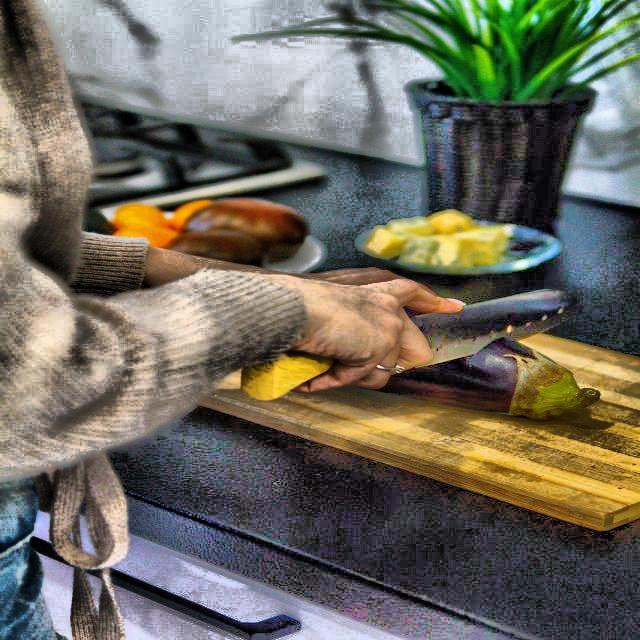knife: (242, 288, 570, 402)
